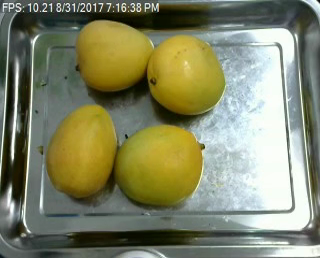Mango: (115, 123, 204, 205), (45, 104, 117, 197), (146, 34, 225, 113), (75, 19, 153, 91)
